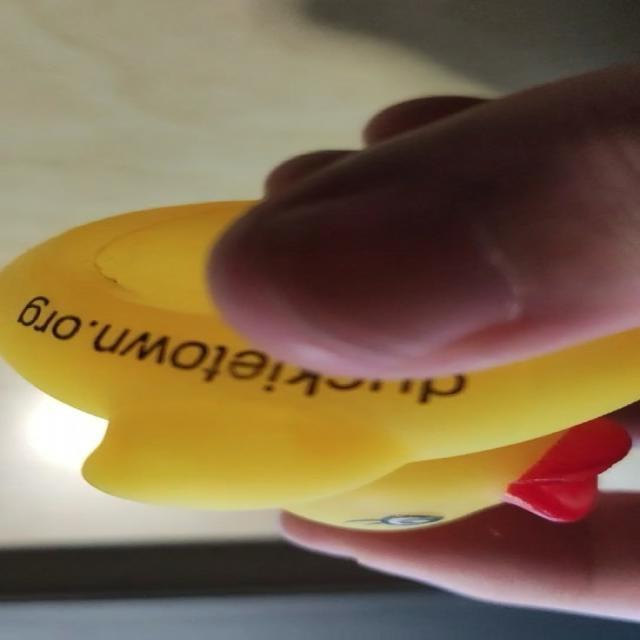rubber-duck: (0, 200, 638, 528), (521, 431, 622, 518)
